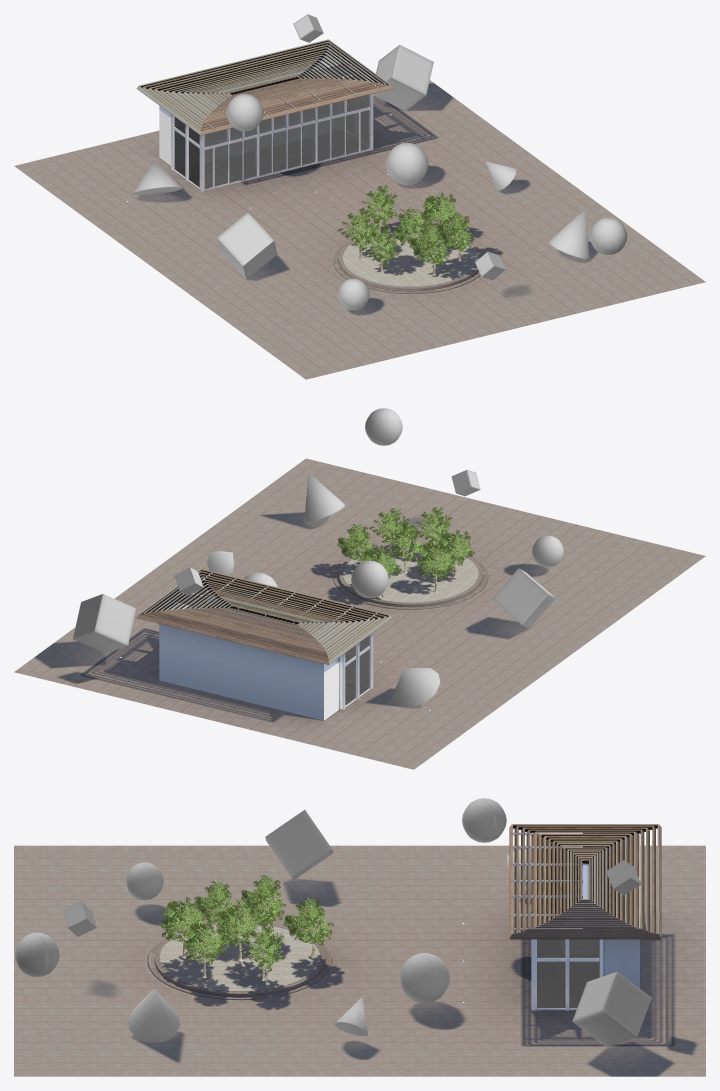
File: Site.gltf
The picture shows the model from 3 angles, top to bottom: view 1: azimuth 30°, elevation 25°; view 2: azimuth 150°, elevation 25°; view 3: azimuth 270°, elevation 25°; orthographic projection. The views are drawn at different scales.
Parts seen in each view (by area): view 1: Floor, Abstract4, Wood_top, Glass, Circle_wood, Iron_bars, Leaves2, Leaves7, Leaves4, Leaves1, Leaves3, Leaves5 (+2 smaller); view 2: Floor, Abstract4, Wood_top, Wall, Circle_wood, Glass, Iron_bars, Leaves7, Leaves5, Leaves2, Leaves3, Leaves6 (+2 smaller); view 3: Floor, Abstract4, Wood_top, Circle_wood, Glass, Iron_bars, Wall, Leaves4, Leaves3, Leaves1, Leaves7, Leaves2 (+2 smaller).
Part boxes in pixels (left/top/right/bottom): Floor: left=14, top=78, right=705, bottom=379; Abstract4: left=133, top=14, right=627, bottom=310; Wood_top: left=136, top=39, right=392, bottom=135; Glass: left=174, top=64, right=369, bottom=188; Circle_wood: left=342, top=230, right=478, bottom=286; Iron_bars: left=171, top=63, right=379, bottom=191; Leaves2: left=409, top=224, right=450, bottom=265; Leaves7: left=338, top=209, right=379, bottom=251; Leaves4: left=359, top=185, right=398, bottom=227; Leaves1: left=438, top=212, right=474, bottom=251; Leaves3: left=393, top=207, right=434, bottom=245; Leaves5: left=421, top=192, right=460, bottom=227; Floor: left=14, top=458, right=705, bottom=769; Abstract4: left=73, top=408, right=563, bottom=707; Wood_top: left=136, top=568, right=392, bottom=664; Wall: left=159, top=603, right=339, bottom=720; Circle_wood: left=342, top=545, right=478, bottom=602; Glass: left=175, top=585, right=369, bottom=705; Iron_bars: left=171, top=572, right=377, bottom=710; Leaves7: left=417, top=541, right=455, bottom=580; Leaves5: left=337, top=524, right=377, bottom=560; Leaves2: left=415, top=506, right=452, bottom=548; Leaves3: left=391, top=521, right=426, bottom=562; Leaves6: left=437, top=530, right=475, bottom=565; Floor: left=14, top=845, right=705, bottom=1076; Abstract4: left=15, top=798, right=651, bottom=1047; Wood_top: left=509, top=824, right=661, bottom=939; Circle_wood: left=159, top=924, right=320, bottom=991; Glass: left=537, top=835, right=599, bottom=1008; Iron_bars: left=510, top=832, right=602, bottom=1010; Wall: left=603, top=835, right=640, bottom=988; Leaves4: left=283, top=897, right=333, bottom=945; Leaves3: left=217, top=898, right=268, bottom=946; Leaves1: left=183, top=920, right=226, bottom=964; Leaves7: left=241, top=875, right=286, bottom=924; Leaves2: left=160, top=897, right=207, bottom=942.
Bounding box in the file's own units: 28.01 × 8.61 × 35.43.
11 materials, 6 textured.
